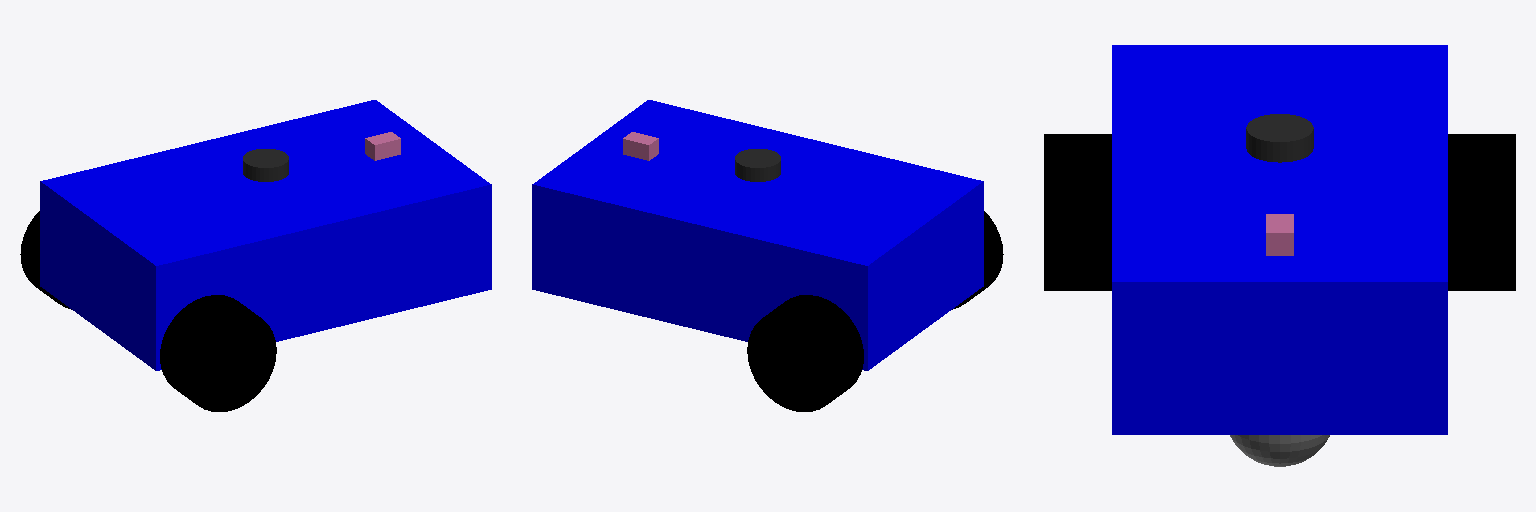
URDF robot description (mobile_robot):
<?xml version="1.0" ?>
<!-- =================================================================================== -->
<!-- |    This document was autogenerated by xacro from /home/hiba/navbot_ws/src/robot_description/model/robot.xacro | -->
<!-- |    EDITING THIS FILE BY HAND IS NOT RECOMMENDED                                 | -->
<!-- =================================================================================== -->
<robot name="mobile_robot">
  <!-- ================================================= -->
  <!-- BASE FOOTPRINT -->
  <!-- ================================================= -->
  <link name="base_footprint"/>
  <!-- ================================================= -->
  <!-- BASE BODY -->
  <!-- ================================================= -->
  <link name="base_link">
    <visual>
      <origin rpy="0 0 0" xyz="0 0 0.25"/>
      <geometry>
        <box size="1.0 0.6 0.3"/>
      </geometry>
      <material name="blue">
        <color rgba="0 0 1 1"/>
      </material>
    </visual>
    <collision>
      <origin rpy="0 0 0" xyz="0 0 0.25"/>
      <geometry>
        <box size="1.0 0.6 0.3"/>
      </geometry>
    </collision>
    <inertial>
      <origin rpy="0 0 0" xyz="0 0 0.25"/>
      <mass value="5"/>
      <inertia ixx="0.1" ixy="0" ixz="0" iyy="0.1" iyz="0" izz="0.1"/>
    </inertial>
  </link>
  <!-- ================================================= -->
  <!-- BASE JOINT -->
  <!-- ================================================= -->
  <joint name="base_joint" type="fixed">
    <parent link="base_footprint"/>
    <child link="base_link"/>
    <origin rpy="0 0 0" xyz="0 0 0"/>
  </joint>
  <!-- ================================================= -->
  <!-- LEFT REAR WHEEL -->
  <!-- ================================================= -->
  <link name="left_wheel_link">
    <visual>
      <origin rpy="1.5708 0 0" xyz="0 0 0"/>
      <geometry>
        <cylinder length="0.12" radius="0.14"/>
      </geometry>
      <material name="black">
        <color rgba="0 0 0 1"/>
      </material>
    </visual>
    <collision>
      <origin rpy="1.5708 0 0" xyz="0 0 0"/>
      <geometry>
        <cylinder length="0.12" radius="0.14"/>
      </geometry>
    </collision>
    <inertial>
      <mass value="1"/>
      <inertia ixx="0.01" ixy="0" ixz="0" iyy="0.01" iyz="0" izz="0.01"/>
    </inertial>
  </link>
  <!-- LEFT WHEEL JOINT -->
  <joint name="left_wheel_joint" type="continuous">
    <parent link="base_link"/>
    <child link="left_wheel_link"/>
    <origin rpy="0 0 0" xyz="-0.35 0.36 0.14"/>
    <axis xyz="0 1 0"/>
  </joint>
  <!-- ================================================= -->
  <!-- RIGHT REAR WHEEL -->
  <!-- ================================================= -->
  <link name="right_wheel_link">
    <visual>
      <origin rpy="1.5708 0 0" xyz="0 0 0"/>
      <geometry>
        <cylinder length="0.12" radius="0.14"/>
      </geometry>
      <material name="black">
        <color rgba="0 0 0 1"/>
      </material>
    </visual>
    <collision>
      <origin rpy="1.5708 0 0" xyz="0 0 0"/>
      <geometry>
        <cylinder length="0.12" radius="0.14"/>
      </geometry>
    </collision>
    <inertial>
      <mass value="1"/>
      <inertia ixx="0.01" ixy="0" ixz="0" iyy="0.01" iyz="0" izz="0.01"/>
    </inertial>
  </link>
  <!-- RIGHT WHEEL JOINT -->
  <joint name="right_wheel_joint" type="continuous">
    <parent link="base_link"/>
    <child link="right_wheel_link"/>
    <origin rpy="0 0 0" xyz="-0.35 -0.36 0.14"/>
    <axis xyz="0 1 0"/>
  </joint>
  <!-- ================================================= -->
  <!-- FRONT CASTER -->
  <!-- ================================================= -->
  <link name="caster_wheel_link">
    <visual>
      <geometry>
        <sphere radius="0.10"/>
      </geometry>
      <material name="gray">
        <color rgba="0.5 0.5 0.5 1"/>
      </material>
    </visual>
    <collision>
      <geometry>
        <sphere radius="0.10"/>
      </geometry>
    </collision>
    <inertial>
      <mass value="0.2"/>
      <inertia ixx="0.001" ixy="0" ixz="0" iyy="0.001" iyz="0" izz="0.001"/>
    </inertial>
  </link>
  <!-- CASTER JOINT -->
  <joint name="caster_wheel_joint" type="fixed">
    <parent link="base_link"/>
    <child link="caster_wheel_link"/>
    <origin rpy="0 0 0" xyz="0.40 0 0.10"/>
  </joint>
  <!-- ================================================= -->
  <!-- LIDAR -->
  <!-- ================================================= -->
  <link name="lidar_link">
    <visual>
      <origin rpy="0 0 0" xyz="0 0 0"/>
      <geometry>
        <cylinder length="0.04" radius="0.06"/>
      </geometry>
      <material name="lidar_gray">
        <color rgba="0.2 0.2 0.2 1"/>
      </material>
    </visual>
    <collision>
      <origin rpy="0 0 0" xyz="0 0 0"/>
      <geometry>
        <cylinder length="0.04" radius="0.06"/>
      </geometry>
    </collision>
    <inertial>
      <mass value="0.1"/>
      <inertia ixx="0.0001" ixy="0" ixz="0" iyy="0.0001" iyz="0" izz="0.0001"/>
    </inertial>
  </link>
  <!-- LIDAR JOINT -->
  <joint name="lidar_joint" type="fixed">
    <parent link="base_link"/>
    <child link="lidar_link"/>
    <origin rpy="0 0 0" xyz="0 0 0.45"/>
  </joint>
  <!-- ================= CAMERA ================= -->
  <link name="camera_link">
    <visual>
      <geometry>
        <box size="0.08 0.05 0.05"/>
      </geometry>
    </visual>
    <collision>
      <geometry>
        <box size="0.08 0.05 0.05"/>
      </geometry>
    </collision>
    <inertial>
      <mass value="0.05"/>
      <inertia ixx="0.0001" ixy="0" ixz="0" iyy="0.0001" iyz="0" izz="0.0001"/>
    </inertial>
  </link>
  <joint name="camera_joint" type="fixed">
    <parent link="base_link"/>
    <child link="camera_link"/>
    <origin rpy="0 0 0" xyz="0.35 0 0.42"/>
  </joint>
  <!-- ================= CAMERA SENSOR ================= -->
  <gazebo reference="camera_link">
    <sensor name="camera_sensor" type="camera">
      <always_on>true</always_on>
      <update_rate>30</update_rate>
      <visualize>true</visualize>
      <camera>
        <horizontal_fov>1.047</horizontal_fov>
        <image>
          <width>640</width>
          <height>480</height>
          <format>R8G8B8</format>
        </image>
        <clip>
          <near>0.1</near>
          <far>20.0</far>
        </clip>
      </camera>
      <plugin filename="libgazebo_ros_camera.so" name="gazebo_ros_camera">
        <ros>
          <remapping>image_raw:=camera/image_raw</remapping>
          <remapping>camera_info:=camera/camera_info</remapping>
        </ros>
        <camera_name>camera</camera_name>
        <frame_name>camera_link</frame_name>
      </plugin>
    </sensor>
  </gazebo>
  <!-- ================================================= -->
  <!-- GAZEBO CONFIGURATION -->
  <!-- ================================================= -->
  <!-- ================= LEFT WHEEL PHYSICS ================= -->
  <gazebo reference="left_wheel_link">
    <mu1>2.0</mu1>
    <mu2>2.0</mu2>
    <kp>1000000.0</kp>
    <kd>100.0</kd>
  </gazebo>
  <!-- ================= RIGHT WHEEL PHYSICS ================= -->
  <gazebo reference="right_wheel_link">
    <mu1>2.0</mu1>
    <mu2>2.0</mu2>
    <kp>1000000.0</kp>
    <kd>100.0</kd>
  </gazebo>
  <!-- ================= CASTER PHYSICS ================= -->
  <gazebo reference="caster_wheel_link">
    <mu1>0.01</mu1>
    <mu2>0.01</mu2>
  </gazebo>
  <!-- ================= DIFFERENTIAL DRIVE ================= -->
  <gazebo>
    <plugin filename="libgazebo_ros_diff_drive.so" name="diff_drive">
      <ros>
        <remapping>cmd_vel:=cmd_vel</remapping>
        <remapping>odom:=odom</remapping>
      </ros>
      <update_rate>50</update_rate>
      <!-- Drive wheels -->
      <left_joint>left_wheel_joint</left_joint>
      <right_joint>right_wheel_joint</right_joint>
      <!-- Robot dimensions -->
      <wheel_separation>0.72</wheel_separation>
      <wheel_diameter>0.28</wheel_diameter>
      <!-- Motor -->
      <max_wheel_torque>50</max_wheel_torque>
      <max_wheel_acceleration>10</max_wheel_acceleration>
      <!-- Odometry -->
      <publish_odom>true</publish_odom>
      <publish_odom_tf>true</publish_odom_tf>
      <publish_wheel_tf>true</publish_wheel_tf>
      <odometry_frame>odom</odometry_frame>
      <robot_base_frame>base_link</robot_base_frame>
    </plugin>
  </gazebo>
  <!-- ================= LIDAR ================= -->
  <gazebo reference="lidar_link">
    <sensor name="lidar_sensor" type="ray">
      <update_rate>10</update_rate>
      <always_on>true</always_on>
      <visualize>true</visualize>
      <ray>
        <scan>
          <horizontal>
            <samples>360</samples>
            <resolution>1</resolution>
            <min_angle>-3.14</min_angle>
            <max_angle>3.14</max_angle>
          </horizontal>
        </scan>
        <range>
          <min>0.12</min>
          <max>10.0</max>
          <resolution>0.01</resolution>
        </range>
      </ray>
      <plugin filename="libgazebo_ros_ray_sensor.so" name="gazebo_ros_laser">
        <ros>
          <remapping>~/out:=scan</remapping>
        </ros>
        <output_type>sensor_msgs/LaserScan</output_type>
        <frame_name>lidar_link</frame_name>
      </plugin>
    </sensor>
  </gazebo>
  <!-- ================= LIDAR ================= -->
</robot>

--- Facts derived from the render (not from the file) ---
3 views of the same robot in one strip: view 1: azimuth 30°, elevation 25°; view 2: azimuth 150°, elevation 25°; view 3: azimuth 270°, elevation 25° (orthographic).
Robot: mobile_robot — 7 links, 6 joints (2 continuous, 4 fixed); root link base_footprint; default pose: every joint at zero.
Links seen in each view (by area): view 1: base_link, right_wheel_link, lidar_link, left_wheel_link, camera_link; view 2: base_link, left_wheel_link, lidar_link, right_wheel_link, camera_link; view 3: base_link, left_wheel_link, right_wheel_link, lidar_link, caster_wheel_link, camera_link.
Link boxes in pixels (x1=…): base_link: x1=40, y1=100, x2=491, y2=370; right_wheel_link: x1=160, y1=295, x2=276, y2=411; lidar_link: x1=243, y1=149, x2=288, y2=181; left_wheel_link: x1=20, y1=211, x2=71, y2=309; camera_link: x1=365, y1=132, x2=400, y2=160; base_link: x1=532, y1=100, x2=983, y2=370; left_wheel_link: x1=747, y1=295, x2=863, y2=411; lidar_link: x1=735, y1=149, x2=780, y2=181; right_wheel_link: x1=952, y1=211, x2=1003, y2=309; camera_link: x1=623, y1=132, x2=658, y2=160; base_link: x1=1112, y1=45, x2=1447, y2=434; left_wheel_link: x1=1448, y1=134, x2=1515, y2=290; right_wheel_link: x1=1044, y1=134, x2=1111, y2=290; lidar_link: x1=1246, y1=114, x2=1313, y2=162; caster_wheel_link: x1=1230, y1=435, x2=1329, y2=466; camera_link: x1=1266, y1=214, x2=1293, y2=255.
Size in the robot's own frame: 1 by 0.84 by 0.47 metres.
Geometry: primitives only (box / cylinder / sphere), no mesh files.
